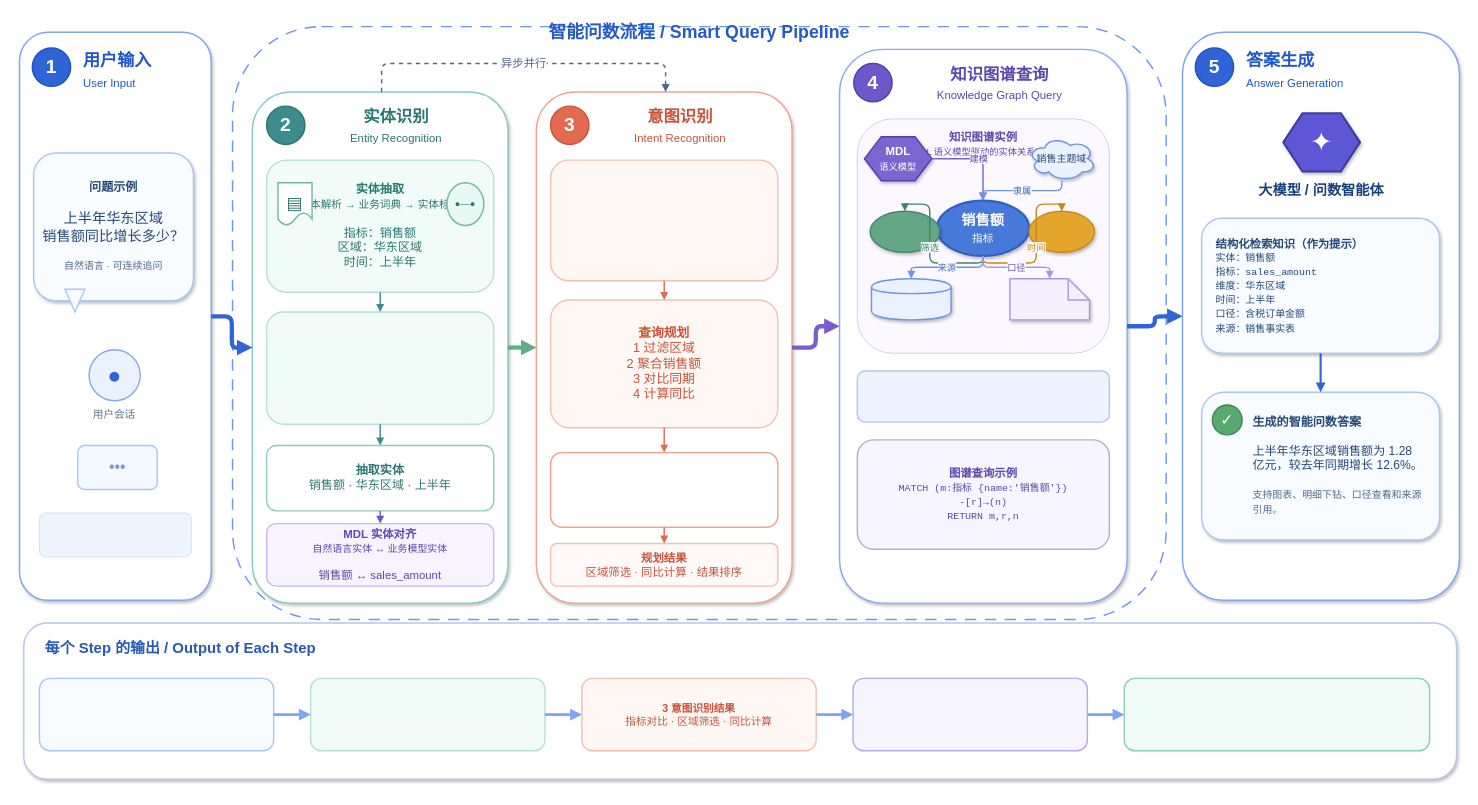
Some shapes in this 1478 by 805 pixel diagram are drawn without their labels. Each missing label, with the centre of its shape:
"1 原始问题 上半年华东区域销售额同比增长多少？" goes at point (156, 714).
"2 实体识别结果 销售额 · 华东区域 · 上半年" goes at point (427, 714).
"4 知识图谱查询语句 MDL · 关系路径 · 查询语句" goes at point (970, 714).
"5 最终答案 结论 · 图表 · 口径 · 来源引用" goes at point (1276, 714).
"上半年" goes at point (1062, 232).
"华东区域" goes at point (905, 232).
"口径定义" goes at point (1050, 300).
"实体 + 意图共同构建查询语句 实体、关系、指标口径、权限条件" goes at point (983, 396).
"指标与口径匹配 业务词典 · 同义词 · MDL 销售额 → sales_amount 同比 → YoY 区域 → region" goes at point (380, 368).
"文字输入 · 连续追问 · 文件上传" goes at point (115, 534).
"示例推理 “销售额同比增长多少？” → 指标对比 → 趋势分析" goes at point (664, 220).
"识别意图 指标对比 / 趋势分析 查询目标：销售额同比" goes at point (664, 490).
"销售事实表" goes at point (912, 300).
